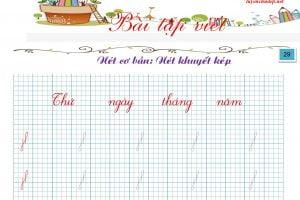text: (107, 10, 227, 39), (96, 55, 232, 66), (161, 91, 194, 114), (107, 97, 135, 114), (51, 91, 76, 107), (246, 167, 259, 194), (17, 130, 32, 153), (188, 169, 201, 192), (76, 169, 88, 192), (216, 97, 243, 107), (76, 131, 88, 153), (189, 132, 201, 154), (135, 169, 145, 194), (134, 132, 145, 153), (18, 168, 28, 191), (248, 131, 258, 153), (245, 0, 284, 5), (283, 51, 291, 58)
